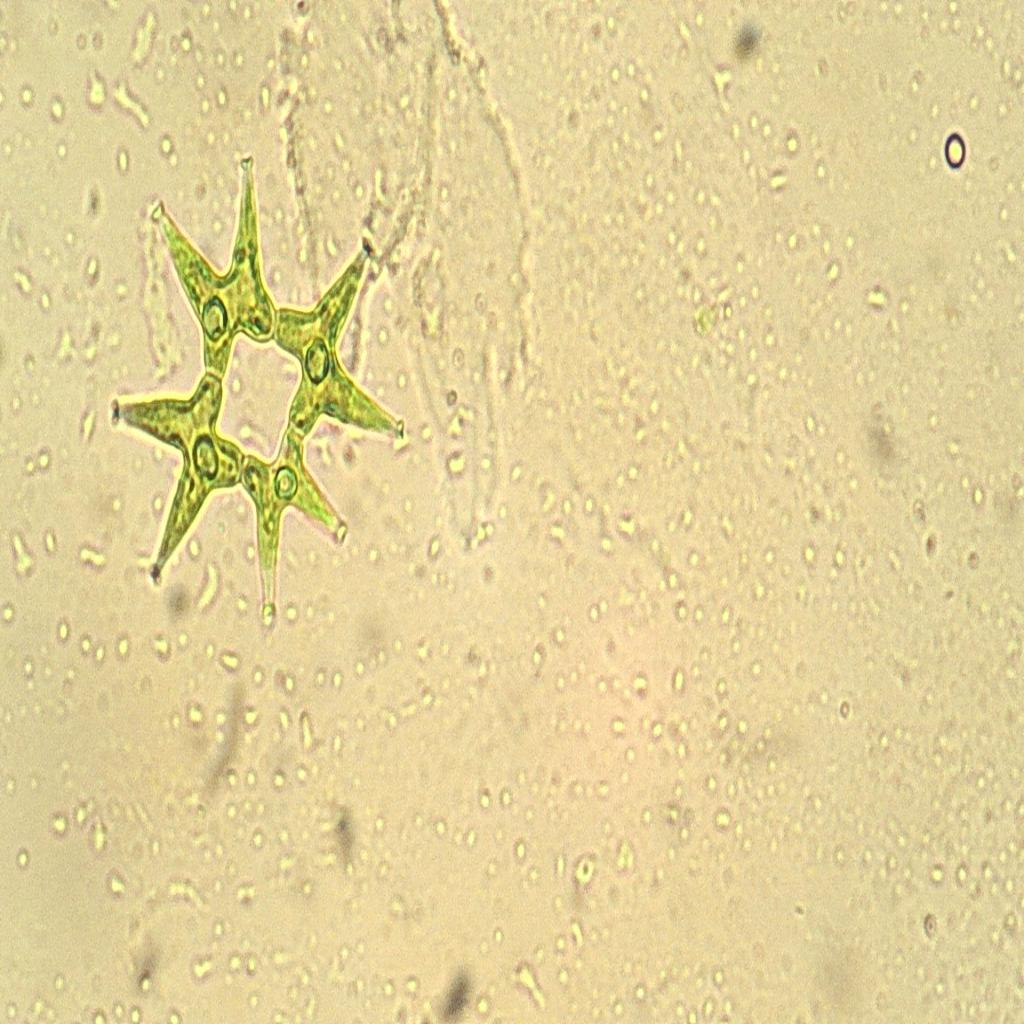Pediastrum_75O: (90, 147, 415, 640)
